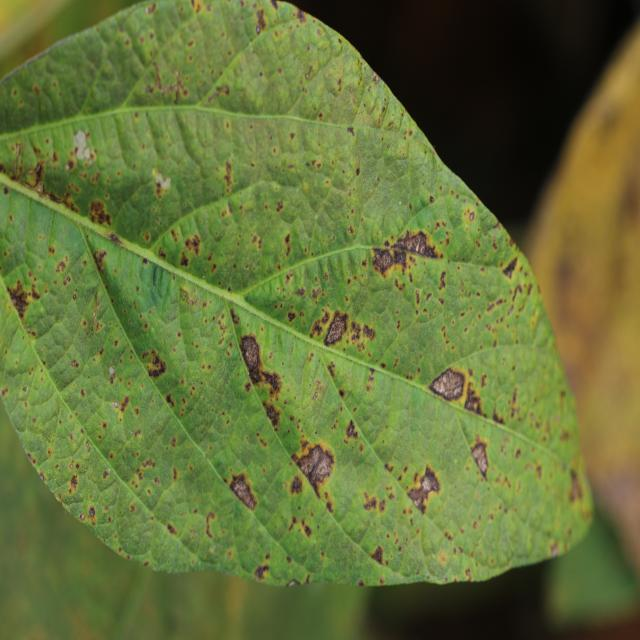Bacterial_Blight: (429, 364, 501, 423), (373, 230, 443, 276), (314, 292, 355, 360), (239, 333, 280, 393), (169, 228, 217, 277), (403, 463, 442, 513), (145, 62, 187, 105), (64, 129, 95, 175), (5, 277, 37, 320), (227, 472, 259, 511), (129, 455, 158, 493), (470, 441, 490, 481), (287, 512, 314, 540), (143, 349, 168, 379), (89, 198, 112, 227), (371, 246, 394, 275), (362, 490, 388, 514), (89, 292, 104, 333), (110, 393, 131, 420), (152, 169, 171, 196), (568, 469, 583, 503), (60, 190, 81, 213), (222, 160, 236, 193), (208, 84, 229, 103), (502, 256, 518, 279), (93, 248, 108, 272), (31, 160, 46, 184), (255, 8, 267, 33), (370, 545, 385, 565), (205, 512, 216, 539), (345, 418, 359, 439), (86, 502, 98, 526), (254, 563, 270, 580), (290, 476, 303, 496), (463, 206, 477, 224), (283, 232, 292, 259), (68, 472, 79, 493), (511, 282, 523, 301), (251, 234, 263, 251), (55, 259, 67, 274), (230, 307, 240, 325), (167, 521, 178, 536), (165, 392, 175, 408), (296, 9, 307, 23), (146, 2, 157, 15), (438, 552, 448, 565), (275, 199, 284, 213), (296, 286, 306, 298), (287, 310, 296, 323), (305, 66, 313, 80), (371, 71, 379, 83), (70, 359, 79, 369), (172, 466, 178, 481), (170, 436, 177, 448), (514, 448, 521, 460), (347, 126, 355, 136), (39, 472, 46, 482), (102, 470, 109, 479), (80, 388, 86, 398), (3, 185, 9, 195), (289, 132, 296, 140), (114, 338, 120, 347), (142, 257, 148, 266), (68, 431, 73, 441), (21, 385, 28, 392), (102, 421, 107, 430), (355, 167, 360, 176), (429, 195, 434, 204), (85, 440, 90, 449), (382, 105, 387, 113), (473, 521, 478, 529)
Soybean: (0, 0, 596, 591)
